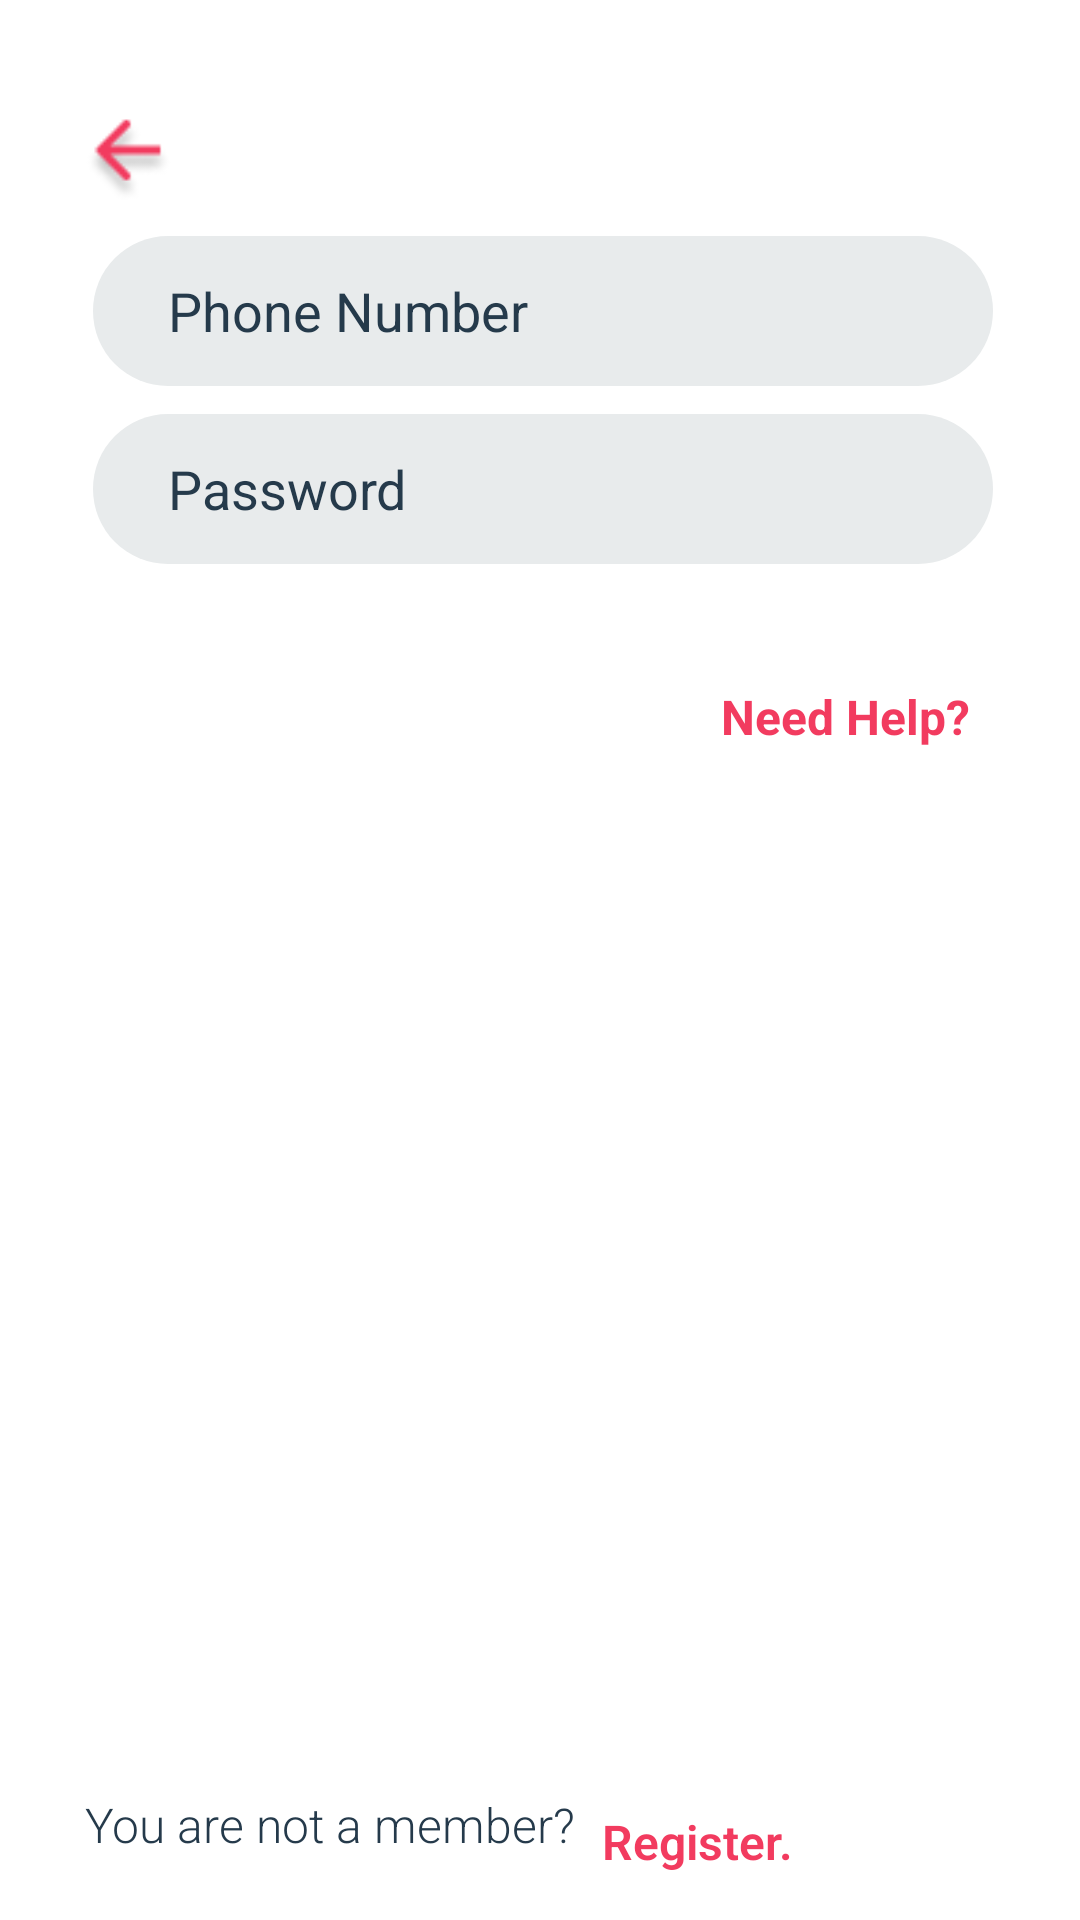

Icon bounding boxes for this 1080 × 1920 phone screenshot, format (x1, y1, x2, y2):
arrow: (94, 119, 161, 189)
